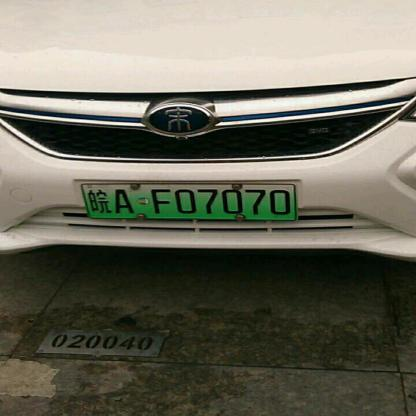lp: (80, 184, 297, 219)
